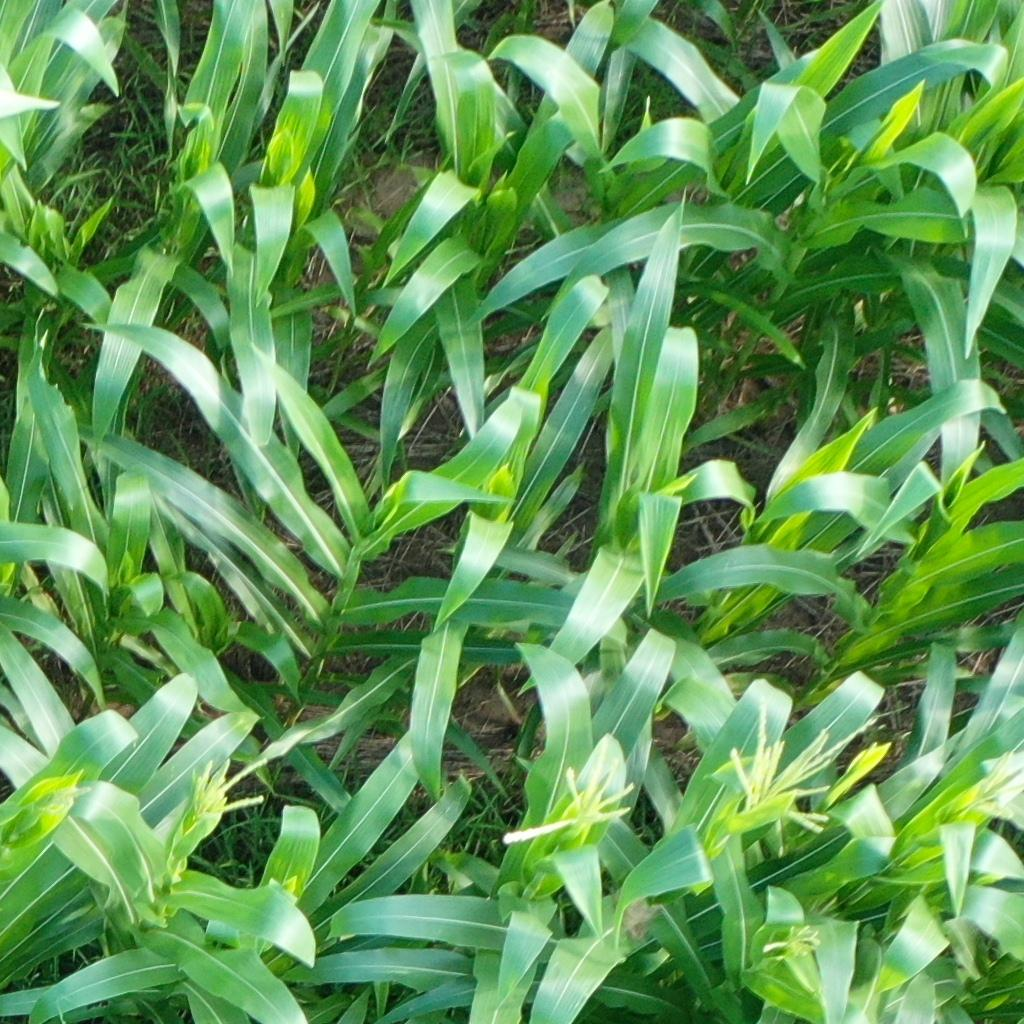Tassel: (723, 695, 880, 839), (502, 754, 640, 852), (182, 751, 275, 823), (952, 745, 1024, 826), (758, 920, 829, 967), (26, 778, 95, 820)
